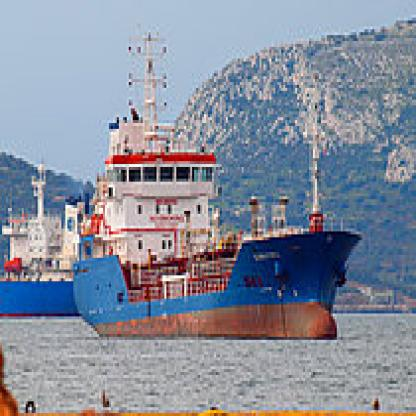Tanker: (74, 17, 366, 352)
